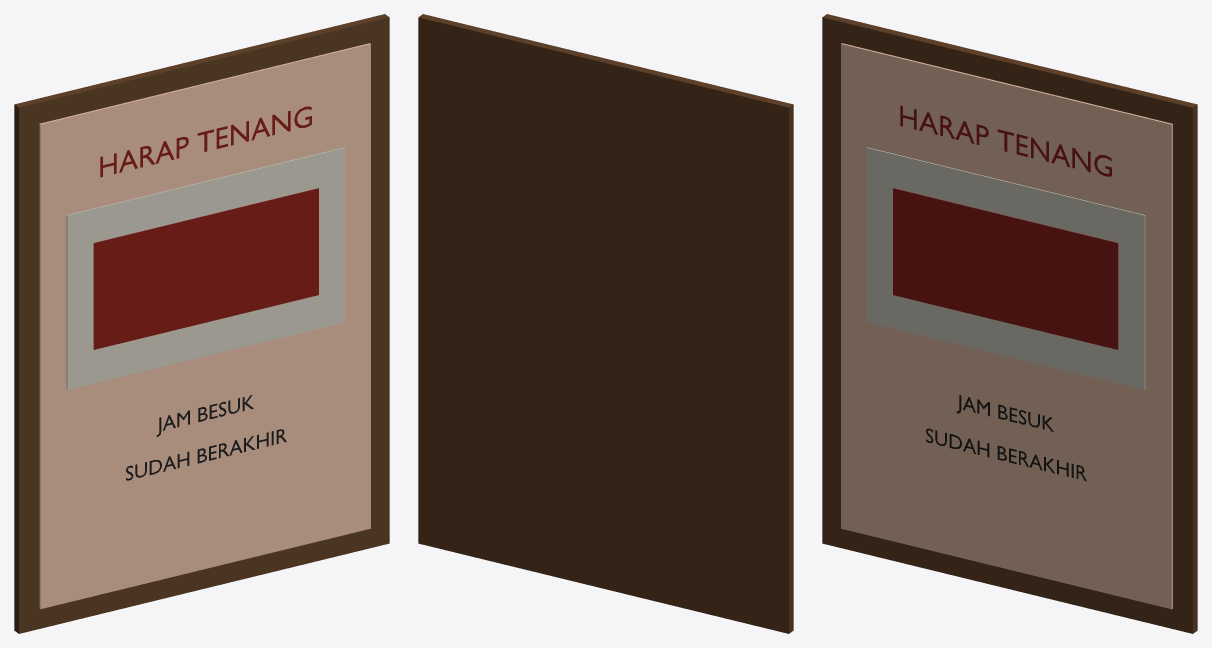
File: poster_c.glb
3 renders of one model, left to right at view 1: azimuth 30°, elevation 25°; view 2: azimuth 150°, elevation 25°; view 3: azimuth 330°, elevation 25°, orthographic.
Parts seen in each view (by area): view 1: PosterC, Frame; view 2: Frame; view 3: PosterC, Frame.
Part boxes in pixels (left/top/right/bottom): PosterC: left=39, top=43, right=370, bottom=609; Frame: left=14, top=14, right=389, bottom=633; Frame: left=418, top=14, right=793, bottom=633; PosterC: left=841, top=43, right=1172, bottom=609; Frame: left=822, top=14, right=1197, bottom=633.
Bounding box in the file's own units: 0.56 × 0.76 × 0.018.
